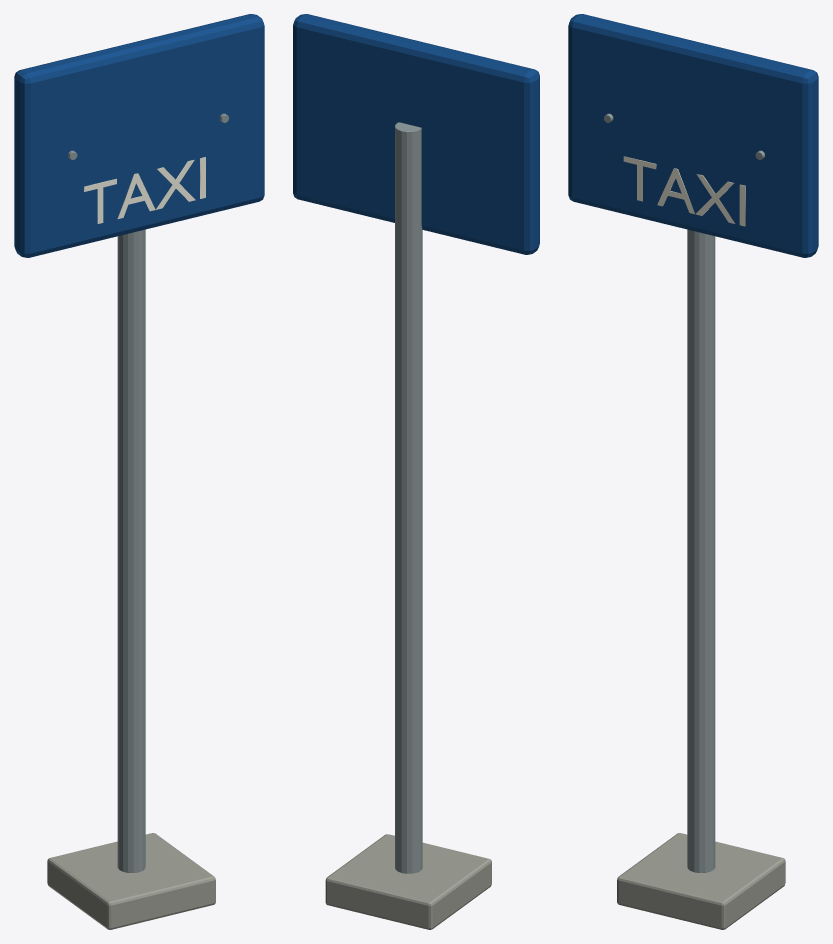
The model's file is source-edit.glb.
The picture shows the model from 3 angles, left to right: view 1: azimuth 30°, elevation 25°; view 2: azimuth 150°, elevation 25°; view 3: azimuth 330°, elevation 25°; orthographic projection.
Parts seen in each view (by area): view 1: SIGN_Panel, SIGN_Pole, SIGN_Foot, TAXI; view 2: SIGN_Panel, SIGN_Pole, SIGN_Foot; view 3: SIGN_Panel, SIGN_Pole, SIGN_Foot, TAXI.
Part boxes in pixels (left/top/right/bottom): SIGN_Panel: left=14, top=14, right=264, bottom=257; SIGN_Pole: left=117, top=229, right=145, bottom=872; SIGN_Foot: left=47, top=833, right=215, bottom=929; TAXI: left=84, top=157, right=205, bottom=223; SIGN_Panel: left=293, top=14, right=539, bottom=254; SIGN_Pole: left=395, top=122, right=422, bottom=873; SIGN_Foot: left=325, top=834, right=491, bottom=929; SIGN_Panel: left=568, top=14, right=818, bottom=257; SIGN_Pole: left=687, top=229, right=715, bottom=872; SIGN_Foot: left=617, top=833, right=785, bottom=929; TAXI: left=623, top=156, right=745, bottom=226.
Size of the model in its own units: 0.9 by 3.03 by 0.4.
